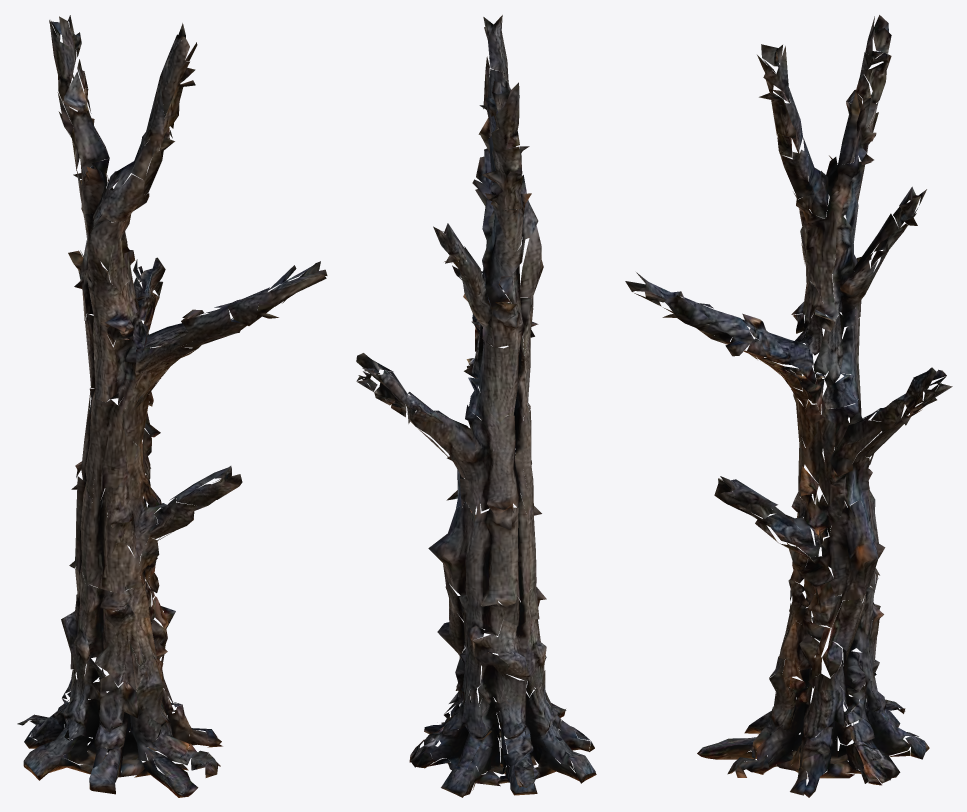
Rendered from charred_tree.glb.
3 views of the same model, side by side, from view 1: azimuth 30°, elevation 25°; view 2: azimuth 150°, elevation 25°; view 3: azimuth 270°, elevation 25° (orthographic). The views are drawn at different scales.
Visible parts, largest first — view 1: tripo_node_3db98a50-b86d-49c5-8caf-c2d90c171f49; view 2: tripo_node_3db98a50-b86d-49c5-8caf-c2d90c171f49; view 3: tripo_node_3db98a50-b86d-49c5-8caf-c2d90c171f49.
Boxes of the visible parts, bbox=[...] form: tripo_node_3db98a50-b86d-49c5-8caf-c2d90c171f49: bbox=[17, 15, 327, 797]; tripo_node_3db98a50-b86d-49c5-8caf-c2d90c171f49: bbox=[356, 15, 596, 797]; tripo_node_3db98a50-b86d-49c5-8caf-c2d90c171f49: bbox=[625, 15, 952, 797].
Bounding box in the file's own units: 0.3425 × 1.2 × 0.4804.
1 material, 1 textured.
